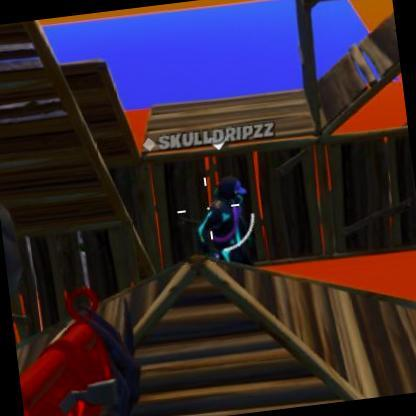person: (192, 183, 258, 250)
